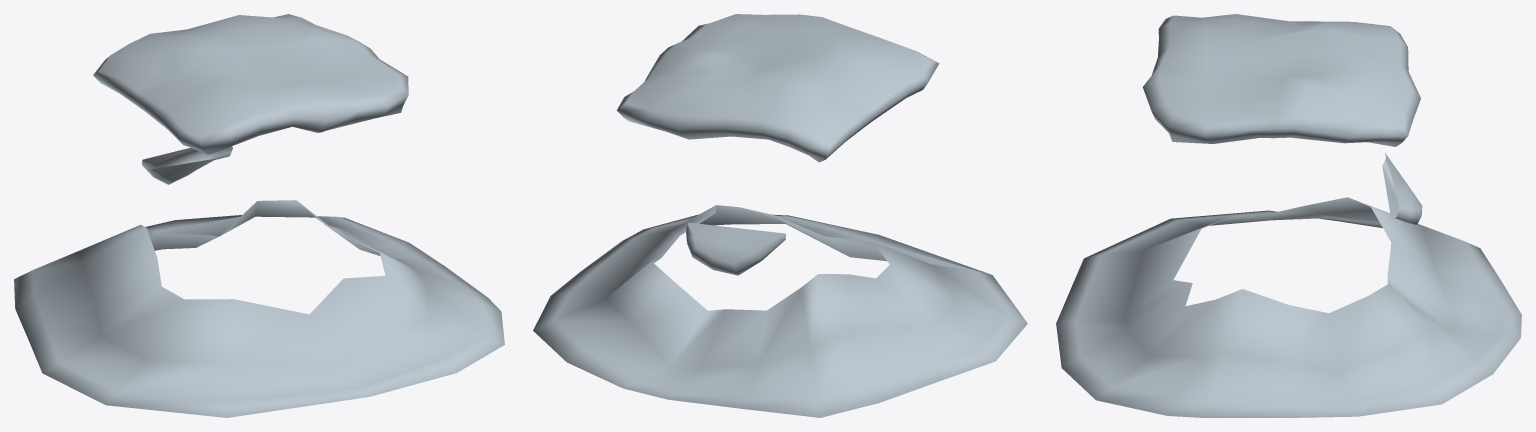
Rendered from Rock_set_01_Model_1_Snow.fbx.
The picture shows the model from 3 angles, left to right: view 1: azimuth 30°, elevation 25°; view 2: azimuth 150°, elevation 25°; view 3: azimuth 270°, elevation 25°; orthographic projection. The views are drawn at different scales.
Visible parts, largest first — view 1: Rock_set_01_Model_1_Snow1; view 2: Rock_set_01_Model_1_Snow1; view 3: Rock_set_01_Model_1_Snow1.
Boxes of the visible parts, bbox=[...] form: Rock_set_01_Model_1_Snow1: bbox=[14, 14, 504, 417]; Rock_set_01_Model_1_Snow1: bbox=[533, 14, 1027, 417]; Rock_set_01_Model_1_Snow1: bbox=[1056, 14, 1521, 417].
Bounding box in the file's own units: 278 × 173 × 266.
